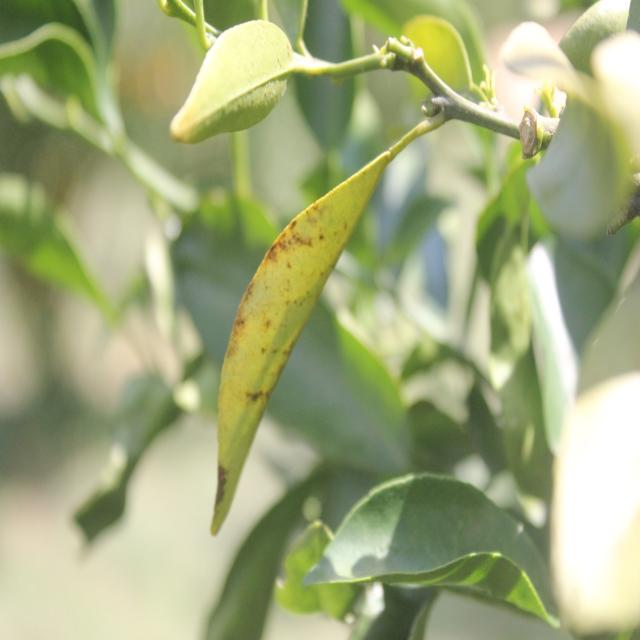melanose: (174, 138, 394, 540)
